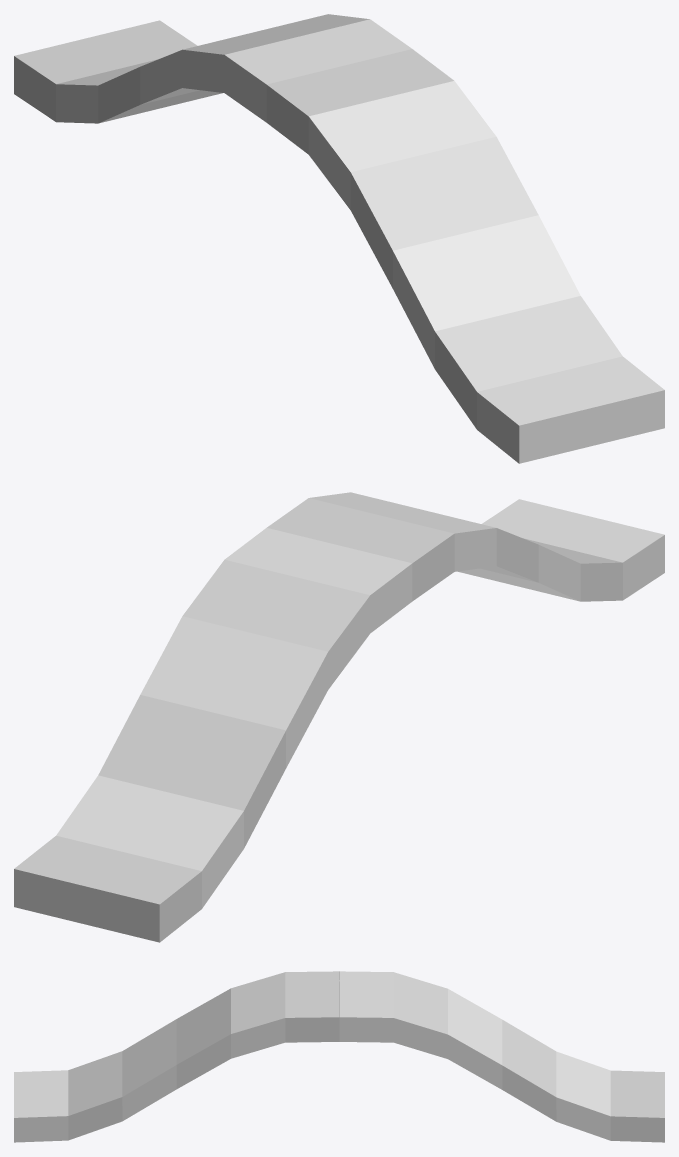
File: road_04.fbx
The picture shows the model from 3 angles, top to bottom: view 1: azimuth 30°, elevation 25°; view 2: azimuth 150°, elevation 25°; view 3: azimuth 270°, elevation 25°; orthographic projection. The views are drawn at different scales.
Visible parts, largest first — view 1: road_04; view 2: road_04; view 3: road_04.
Boxes of the visible parts, bbox=[...] form: road_04: bbox=[14, 14, 664, 463]; road_04: bbox=[14, 492, 664, 942]; road_04: bbox=[14, 971, 664, 1142].
Bounding box in the file's own units: 10.21 × 13.01 × 61.25.
